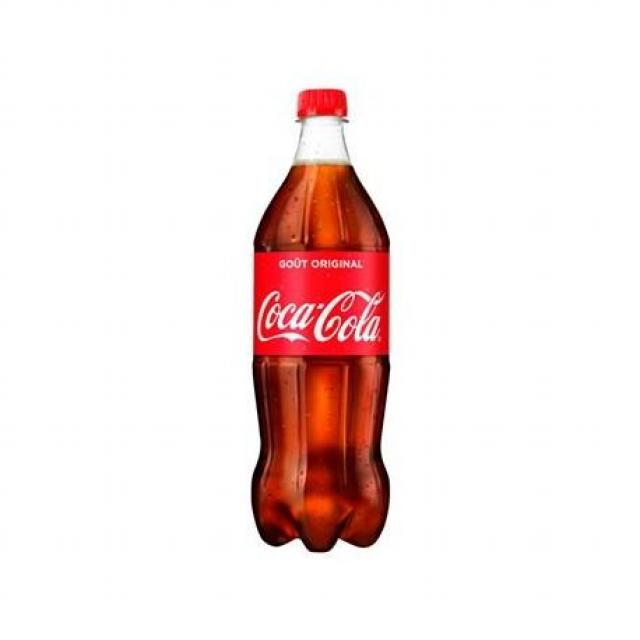plastic_bottle: (254, 89, 396, 550)
